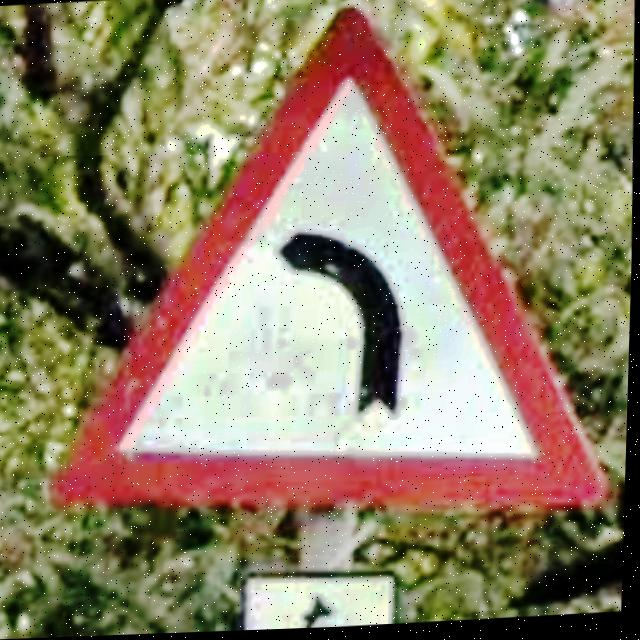leftbend: (52, 7, 611, 514)
